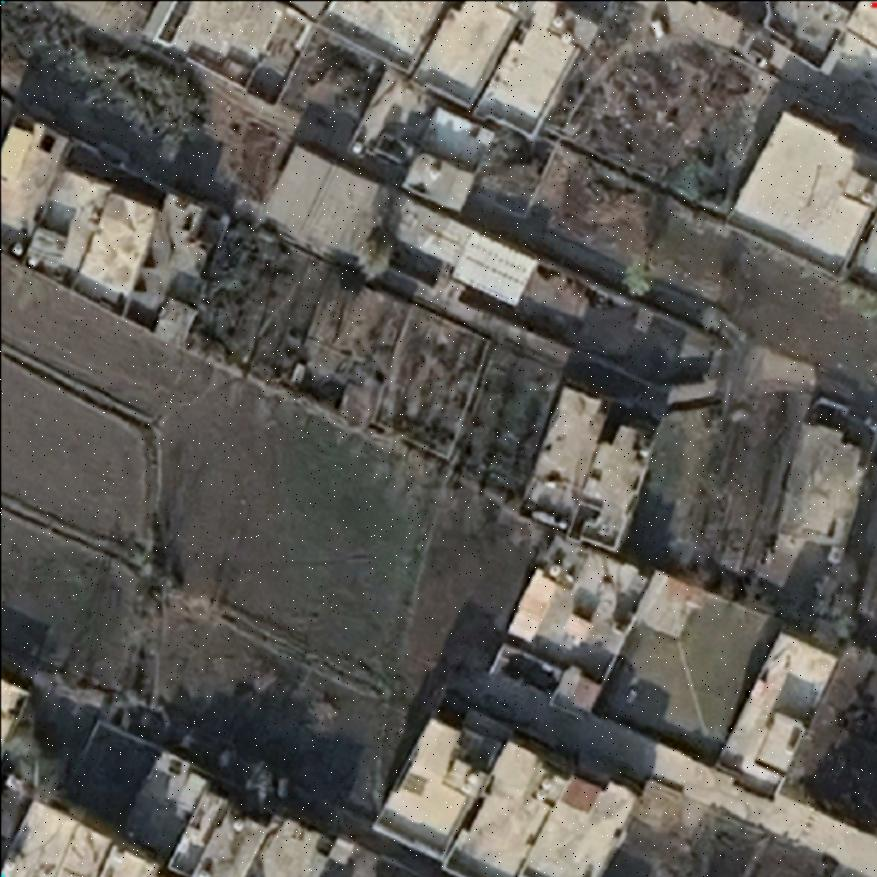Solarpanel: (449, 230, 537, 307)
